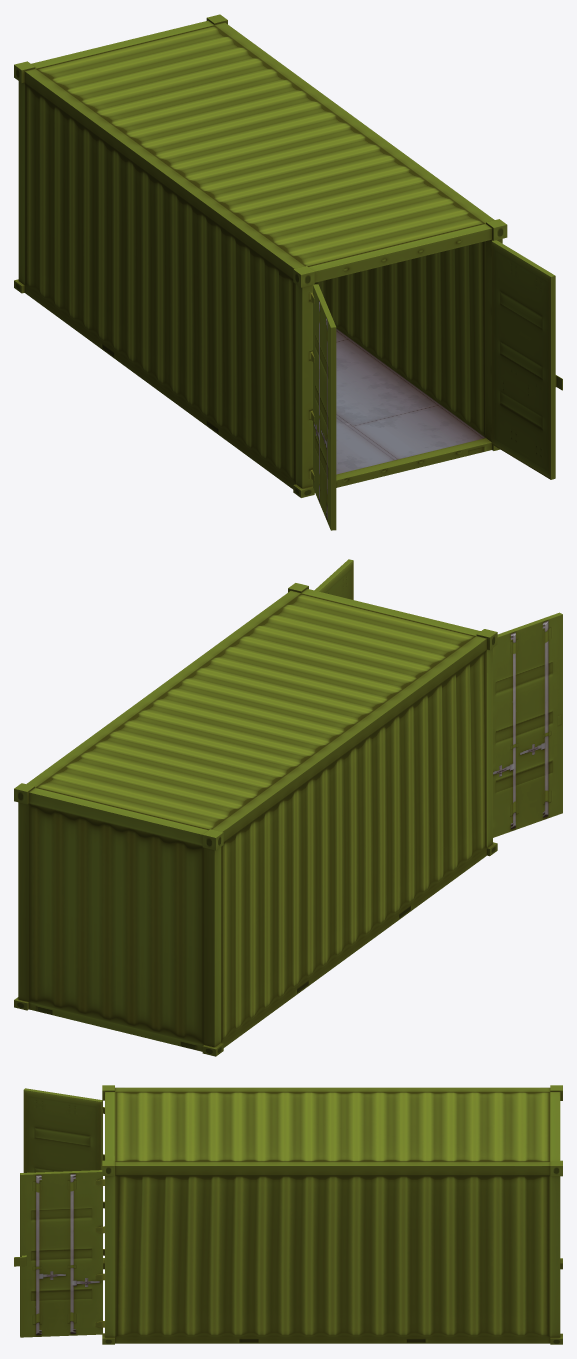
Rendered from Container01_2.FBX.
The picture shows the model from 3 angles, top to bottom: view 1: azimuth 30°, elevation 25°; view 2: azimuth 150°, elevation 25°; view 3: azimuth 270°, elevation 25°; orthographic projection. The views are drawn at different scales.
Parts seen in each view (by area): view 1: Container01_2; view 2: Container01_2; view 3: Container01_2.
Boxes of the visible parts, x1,y1,x2,y2 form: Container01_2: (14, 14, 562, 530); Container01_2: (14, 559, 562, 1056); Container01_2: (14, 1085, 562, 1344).
Size of what is drawn, in the model's own units: 3.17 by 3 by 8.34.
